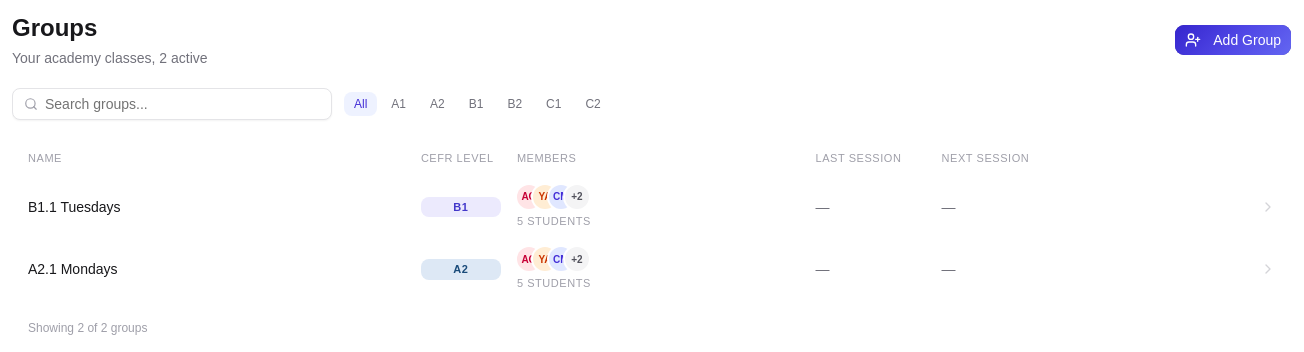
Test: Groups page › filters by CEFR pill
expect the text "B1.1 Tuesdays" is shown: met, box [28,199,121,215]
Click the button with test id "cefr-pill-A2" at (437, 104), box [420,92,455,116]
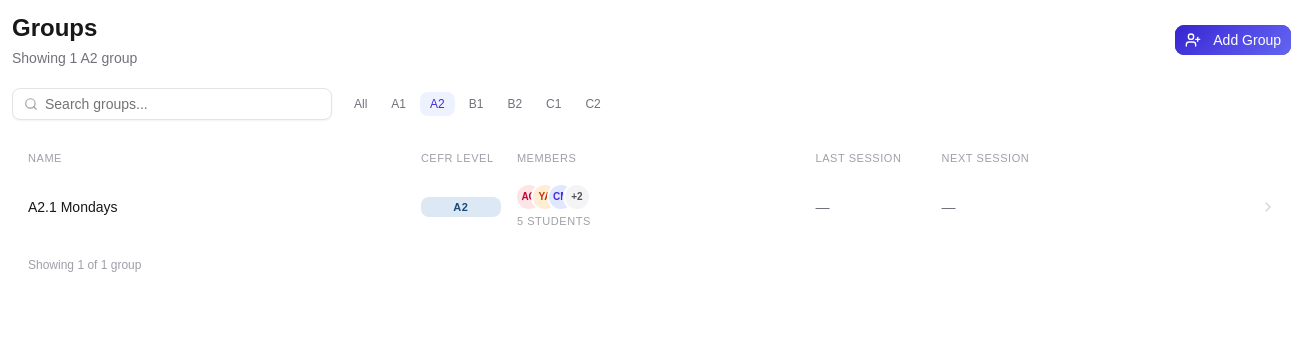
expect the text "A2.1 Mondays" is shown: met, box [28,199,118,215]
expect the button "B1.1 Tuesdays" is gone: met
